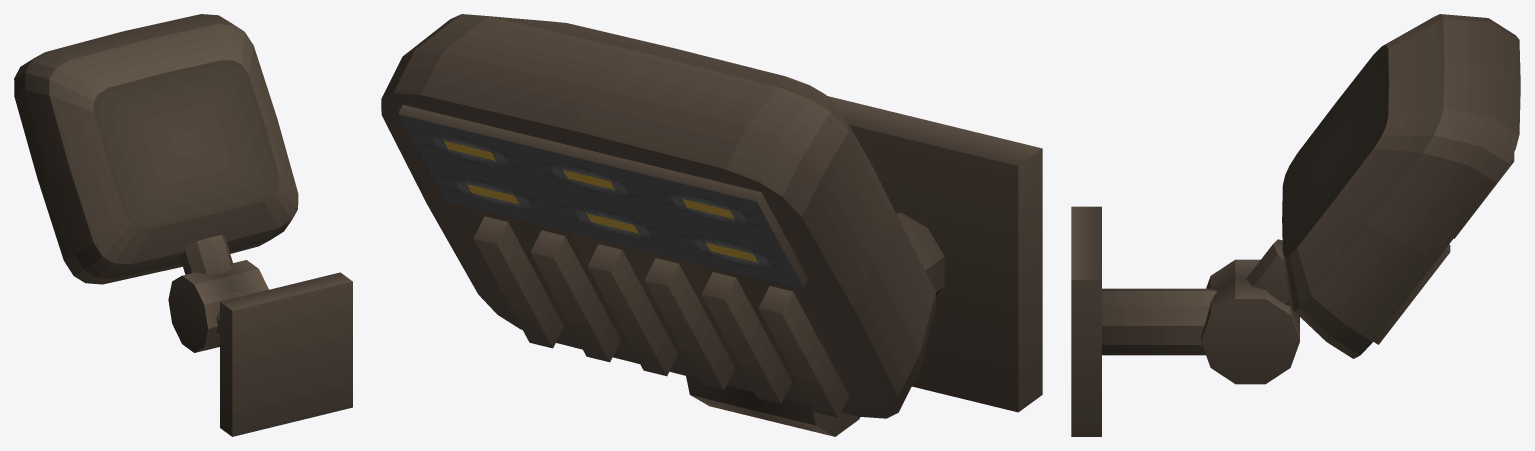
The model's file is floodlight_lithdsxf1kn.obj.
3 renders of one model, left to right at view 1: azimuth 30°, elevation 25°; view 2: azimuth 150°, elevation 25°; view 3: azimuth 270°, elevation 25°, orthographic. The views are drawn at different scales.
Visible parts, largest first — view 1: fixture; view 2: fixture; view 3: fixture.
Part boxes in pixels (x1,y1,x2,y2): fixture: (14, 14, 352, 436); fixture: (381, 14, 1042, 436); fixture: (1071, 14, 1520, 436).
Bounding box in the file's own units: 0.317 × 0.377 × 0.4542.
